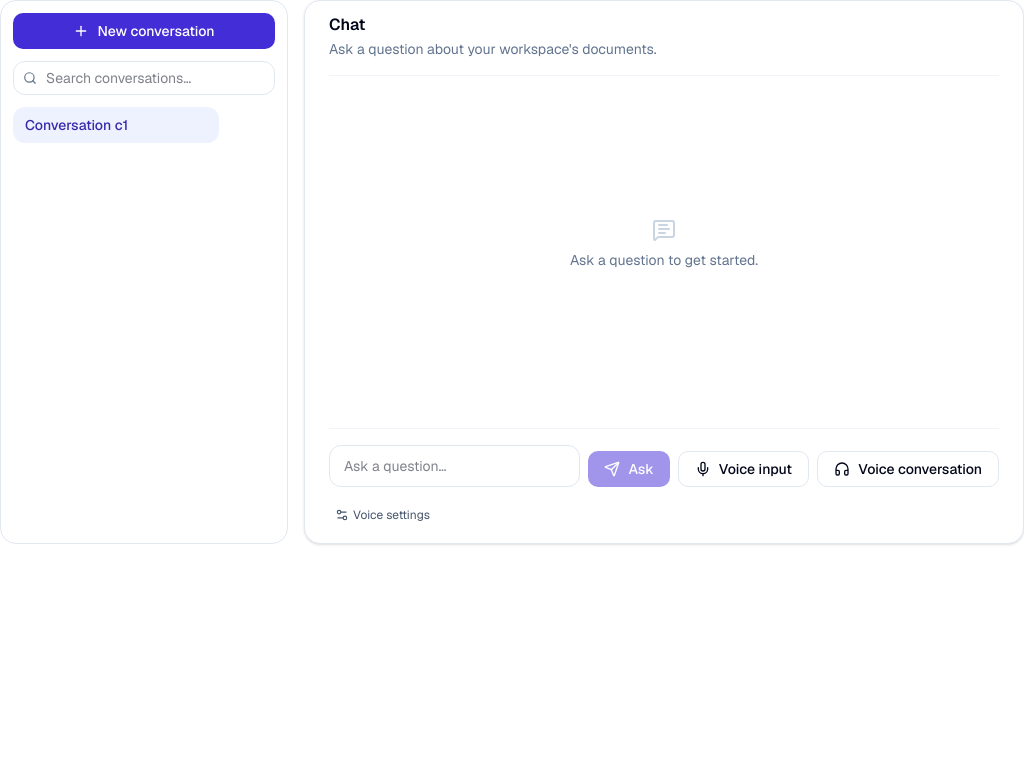
Test: ChatPage › never submits an empty transcription: it explains and leaves the box empty
Expected: the text "Ask a question to get started." is shown, [570,250,758,270]
Click the button "Voice input" at point(743, 469), box [678,451,809,487]
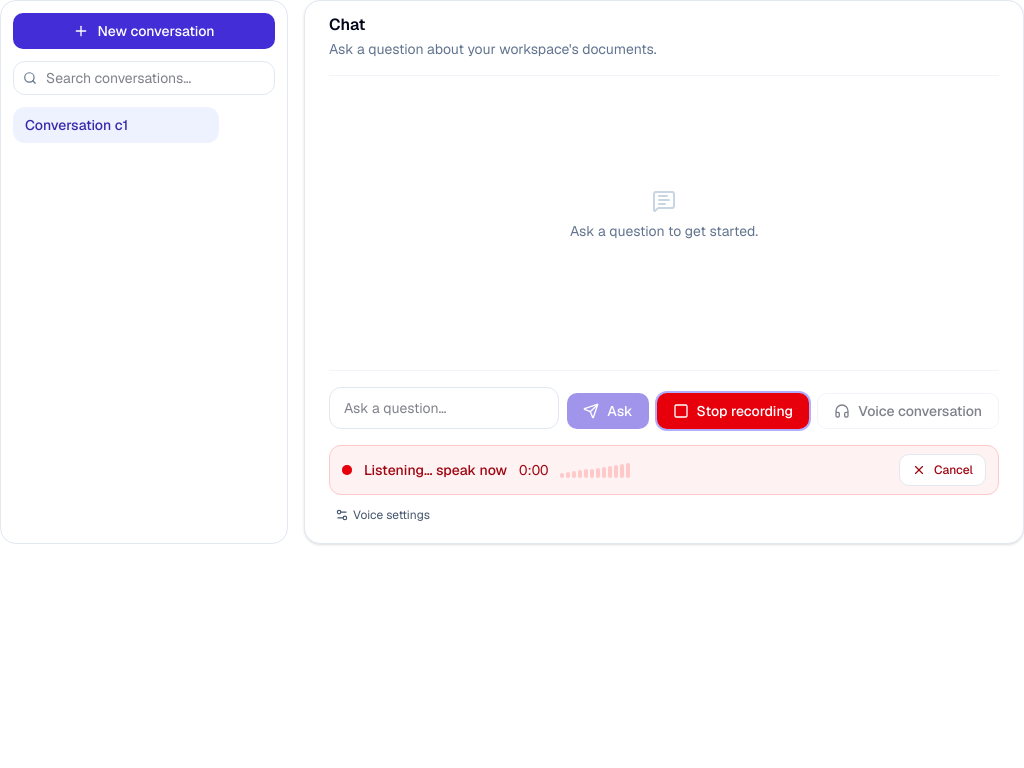
Click the button "Stop recording" at point(733, 411), box [657,393,809,429]
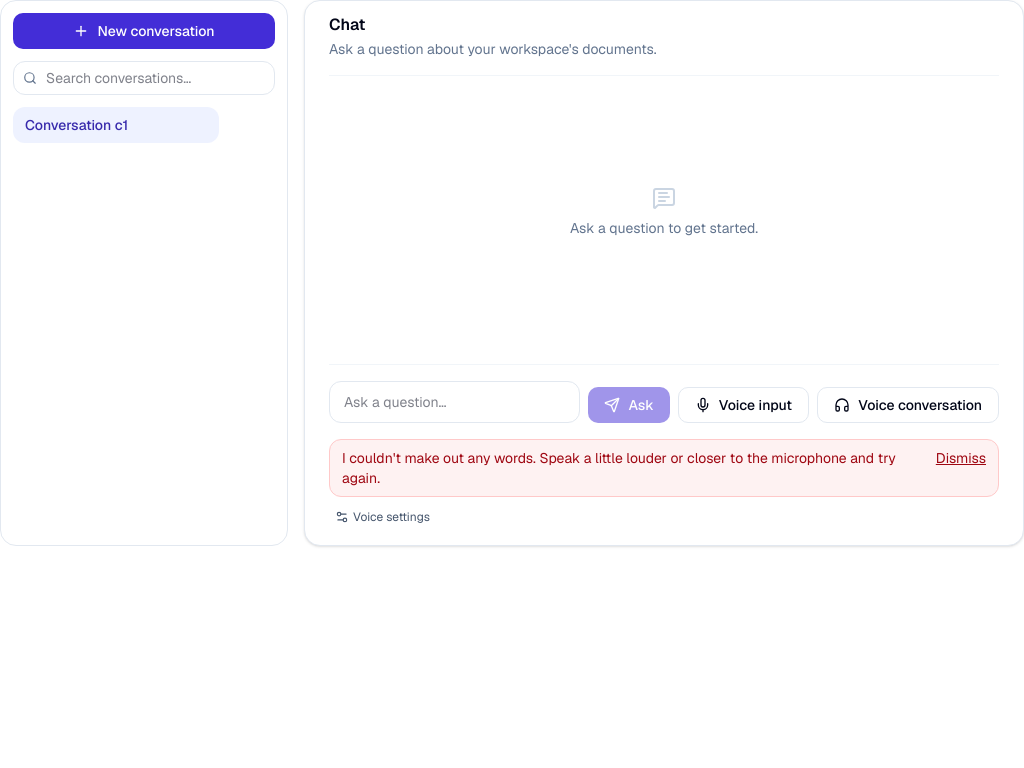
Expected: the field labelled "Ask a question" is empty, [329,381,580,423]
Expected: the text "couldn't make out any words" is shown, [342,449,896,487]
